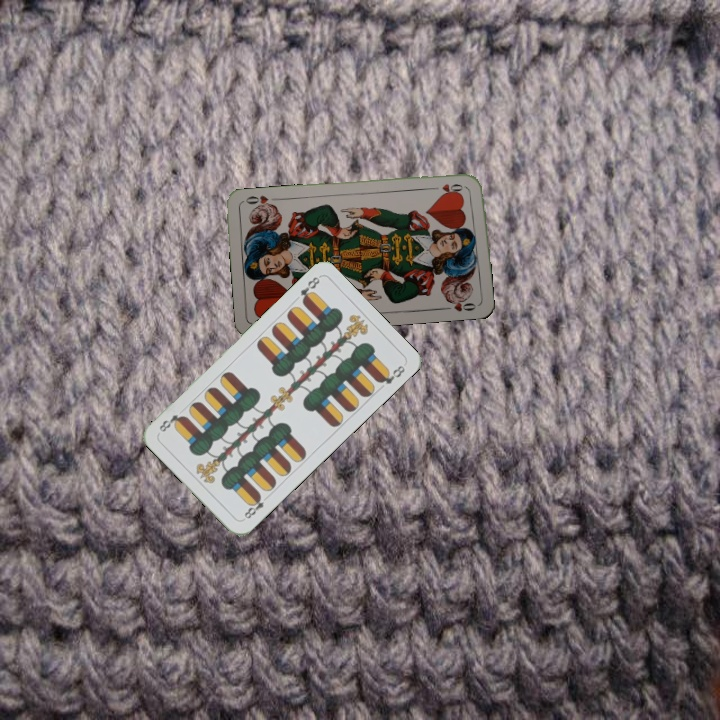E8: (239, 490, 272, 522), (296, 272, 322, 306)
HO: (428, 179, 469, 196)
